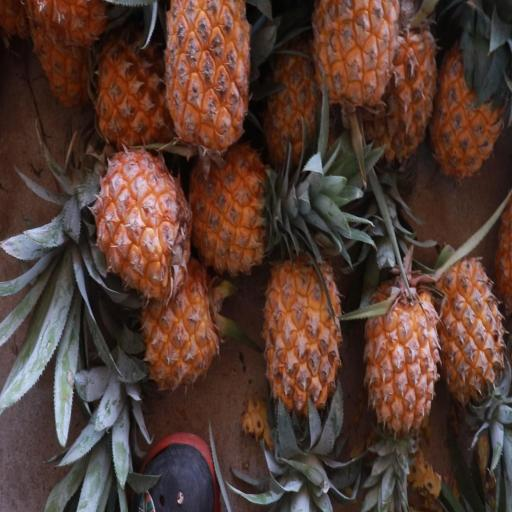Pineapple - v8 v1: (89, 142, 199, 306), (260, 232, 344, 442), (180, 132, 291, 280), (360, 266, 444, 450), (428, 11, 510, 192), (162, 2, 255, 154), (431, 244, 509, 423), (363, 0, 442, 171), (136, 248, 224, 399), (308, 0, 406, 104)
